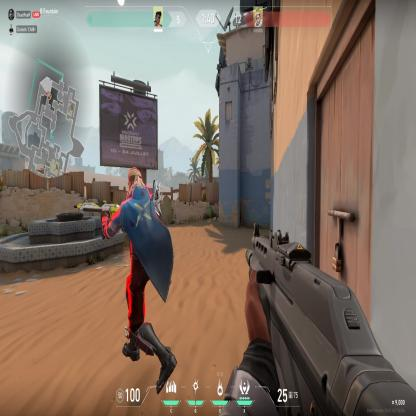enemy: (94, 162, 182, 374)
